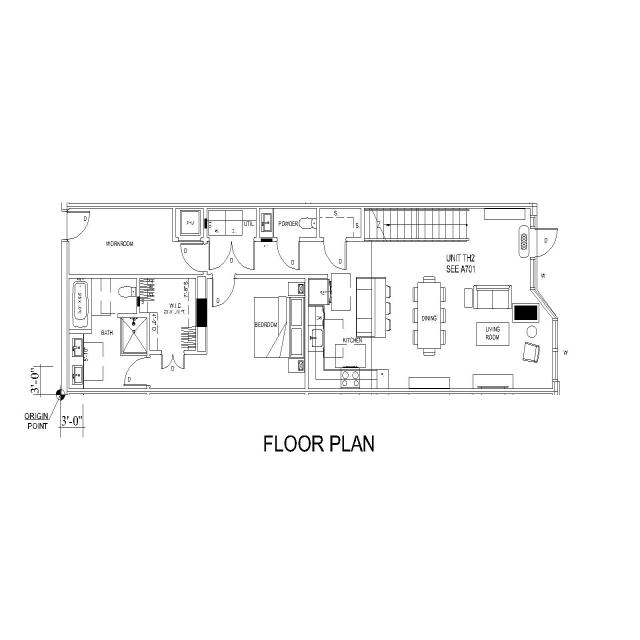Column: (195, 298, 208, 328)
Door: (530, 226, 537, 258), (62, 209, 68, 243), (209, 237, 255, 241), (212, 273, 236, 279), (146, 356, 150, 386), (323, 237, 347, 241), (276, 237, 300, 241), (161, 350, 185, 354), (204, 243, 207, 273)
Staircase: (364, 207, 471, 243)
Window: (552, 320, 558, 381), (529, 257, 538, 289)
